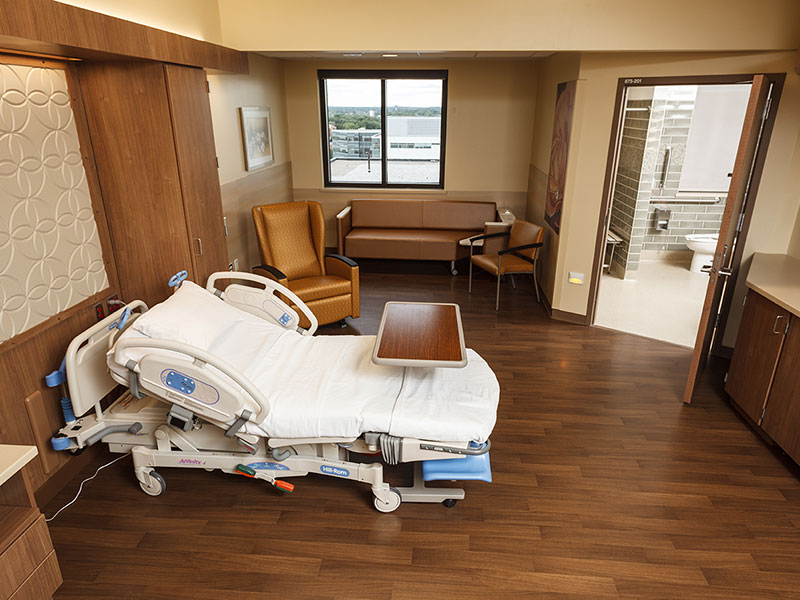bedside table: (100, 277, 502, 475), (371, 299, 466, 366)
